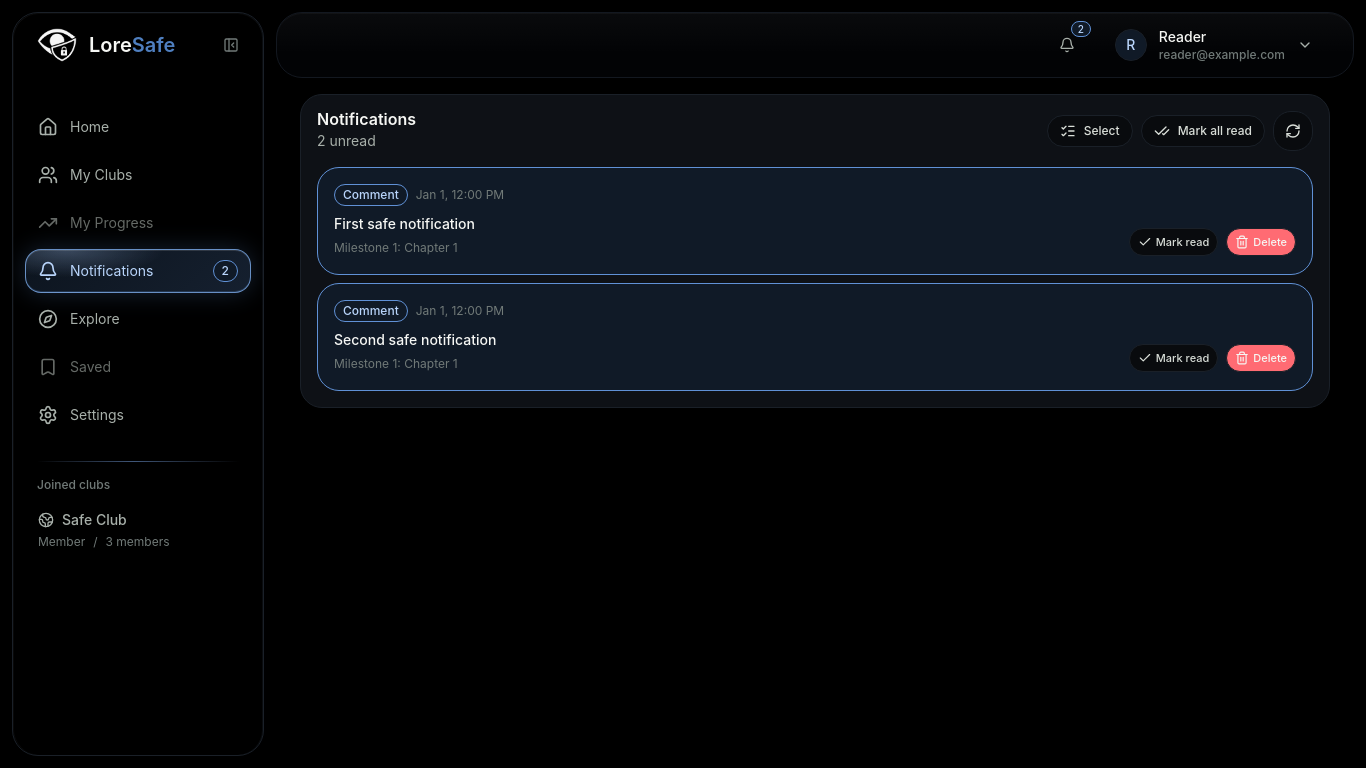
Test: NotificationsPage › deletes user-selected notifications in one request
Expected: the text "First safe notification" is shown, [334,215,475,232]
Expected: the button "Select all" is not shown
Click the button "Select".
click(1090, 131)  # box [1047,115,1133,147]
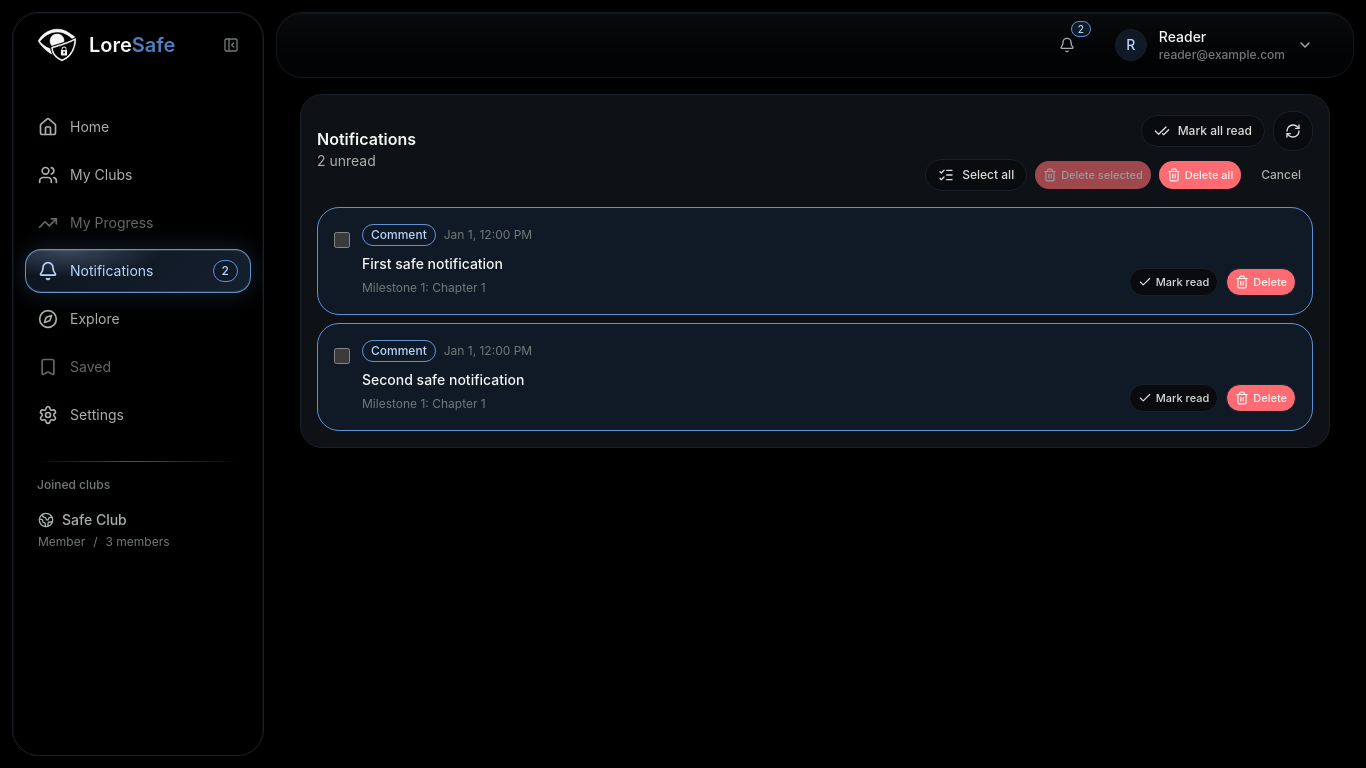
Expected: the button "Select all" is shown, [925,159,1027,191]
Expected: the button "Delete all" is shown, [1159,161,1241,189]
Click the checkbox named "Select notification: First safe notification".
click(342, 240)  # box [334,232,350,248]
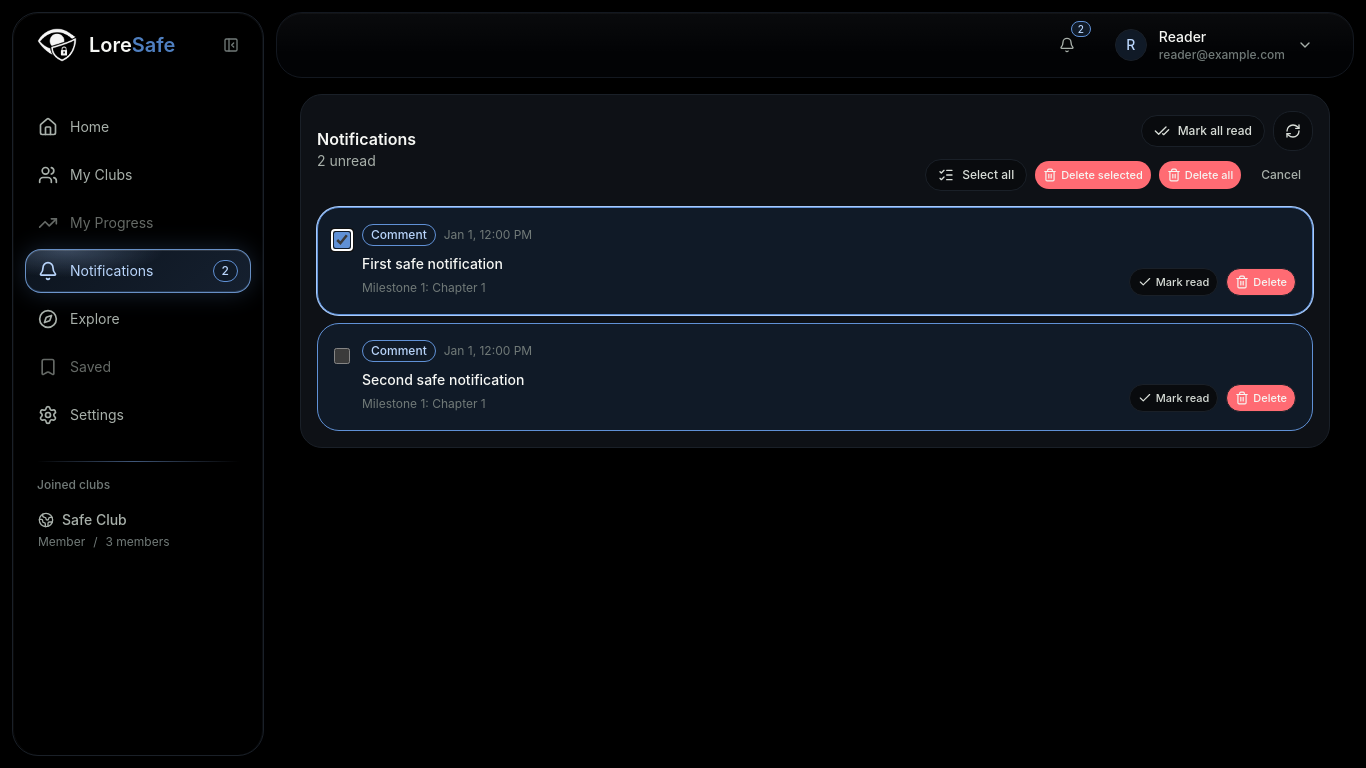
Click the checkbox named "Select notification: Second safe notification".
click(342, 356)  # box [334,348,350,364]
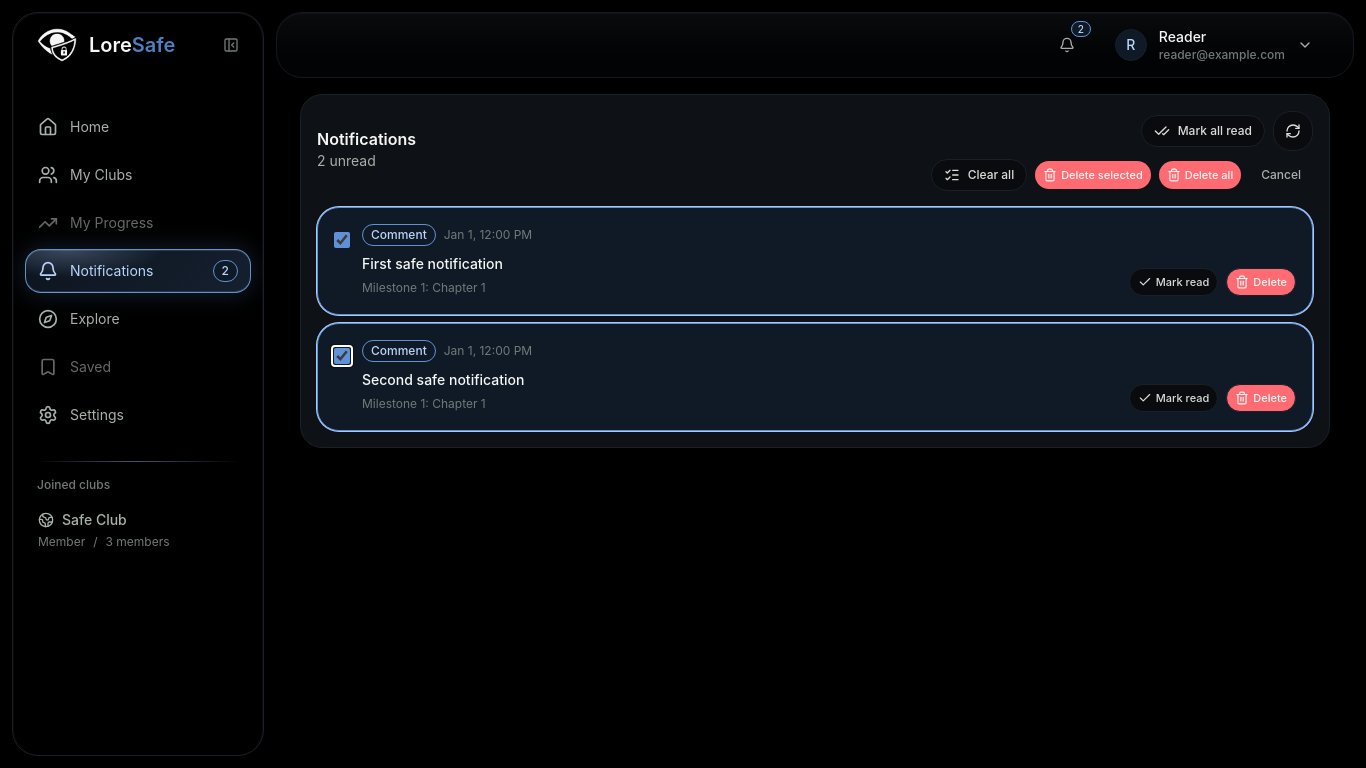
Click the button "Delete selected".
click(1093, 175)  # box [1035,161,1151,189]
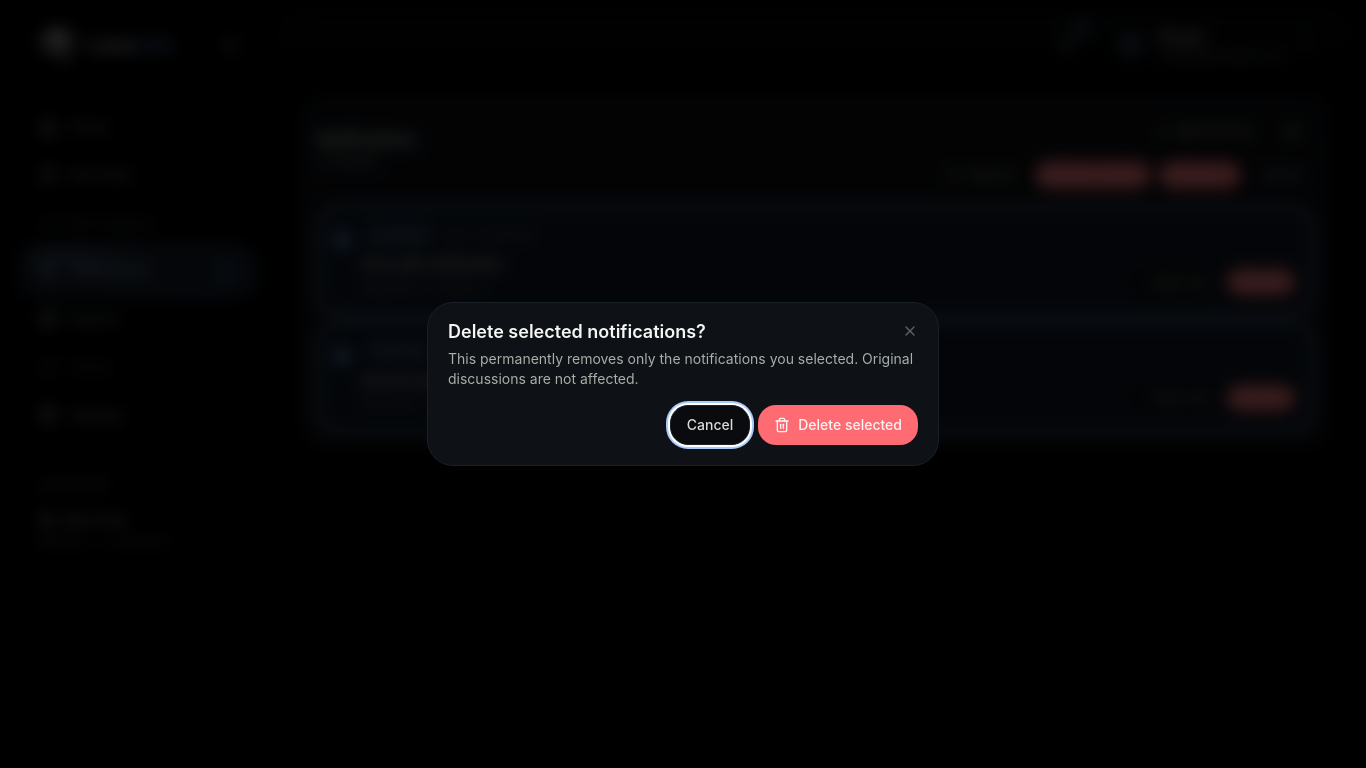
Click the button "Delete selected".
click(838, 425)  # box [758,405,918,445]
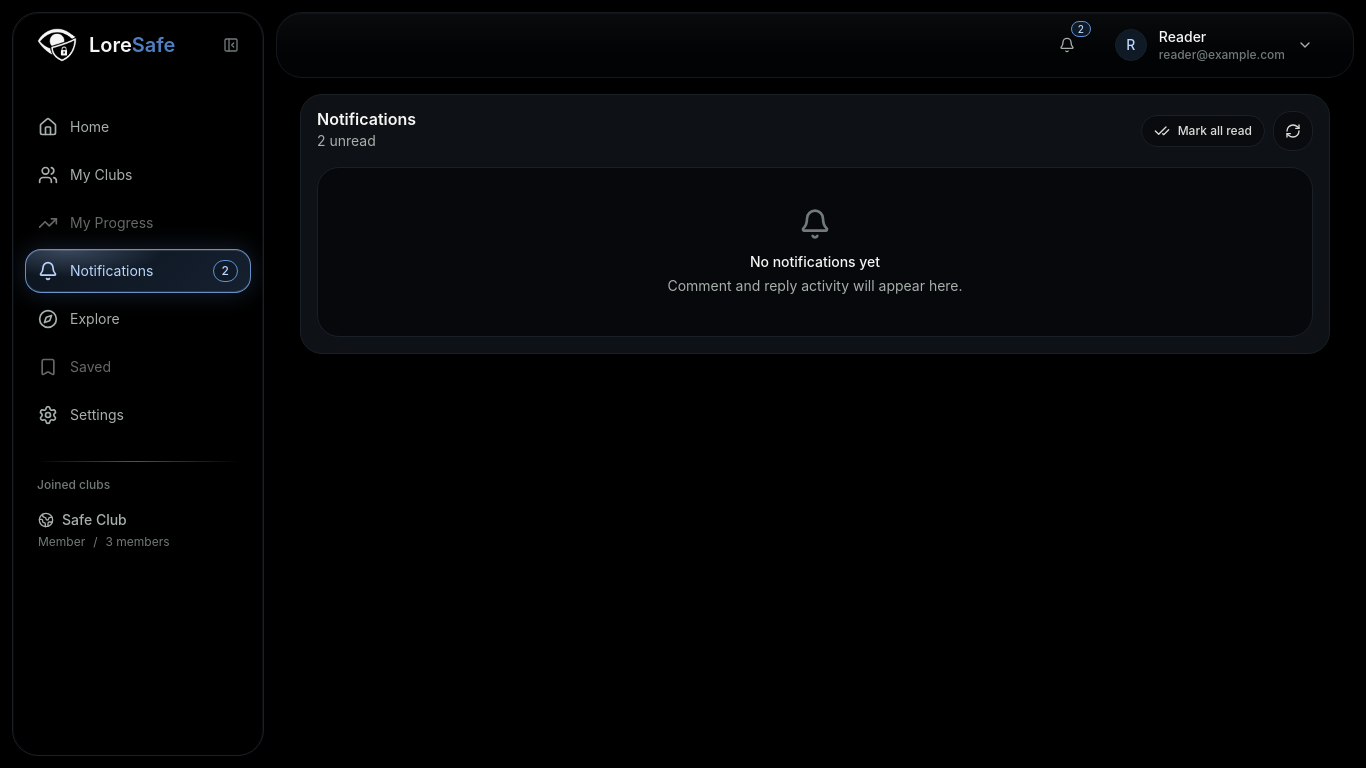
Expected: the link "First safe notification" is gone
Expected: the link "Second safe notification" is gone
